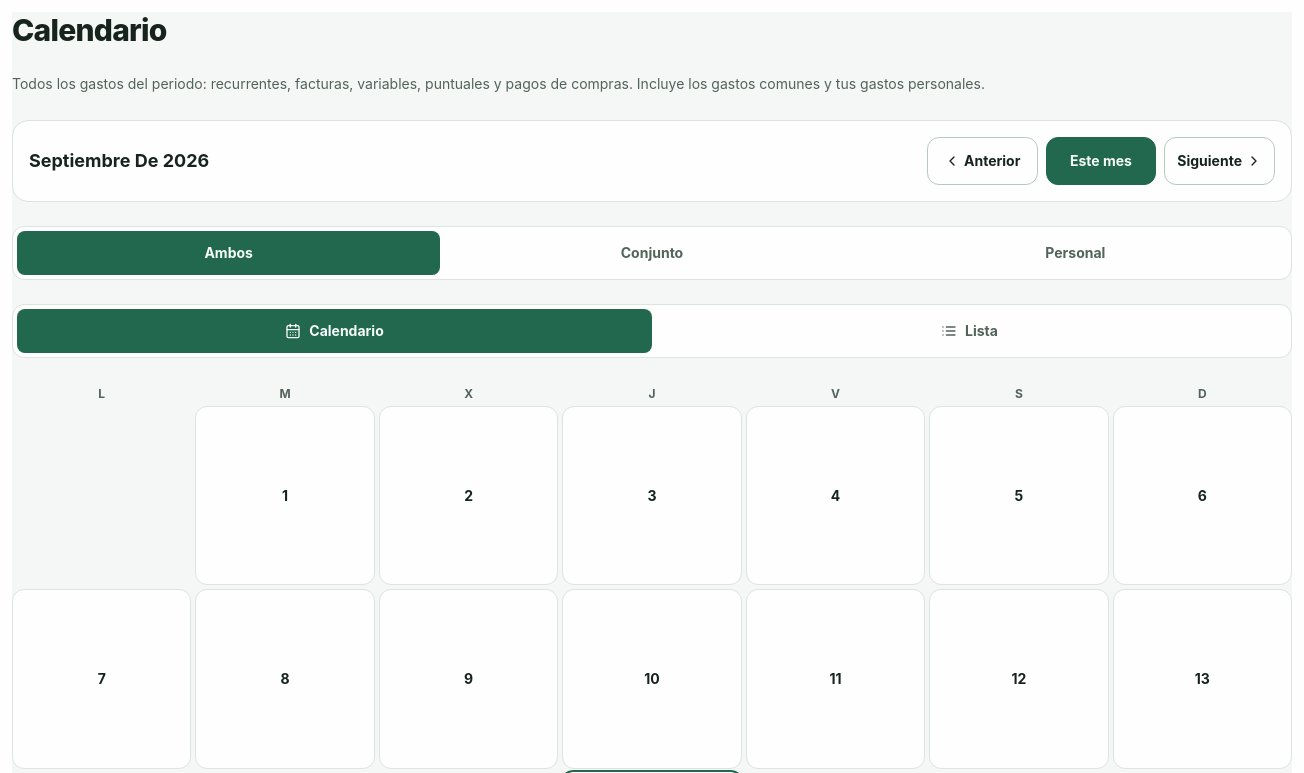
it: Calendario interactivo › only offers monthly navigation without the redundant range selector
The width and height of the screenshot is (1304, 773).
Click the button with aria-label "Mes anterior" at (982,161), box [927,137,1038,185]
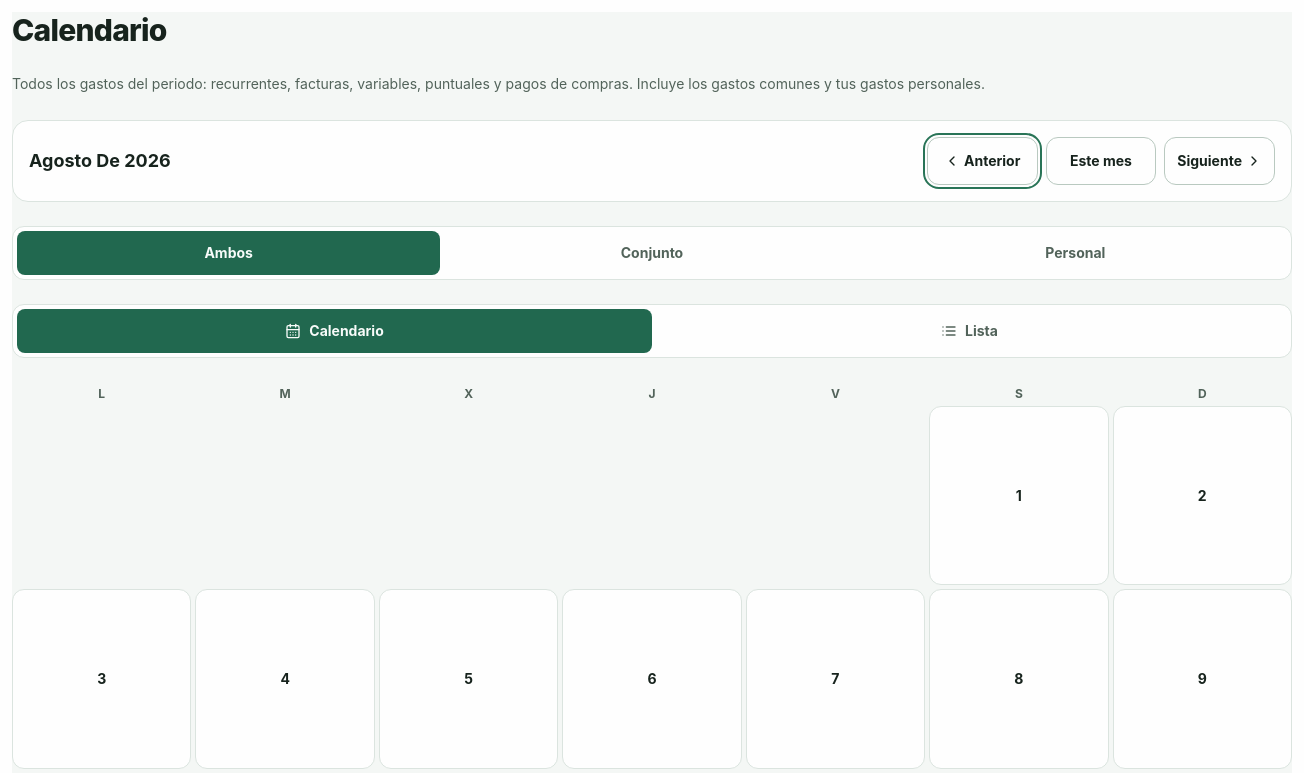
Expected: the heading "agosto de 2026" is shown, [29,147,171,175]
